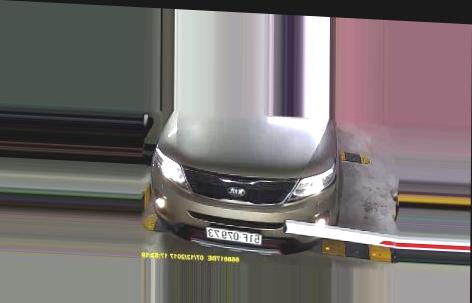License_Plate: (204, 225, 261, 248)
